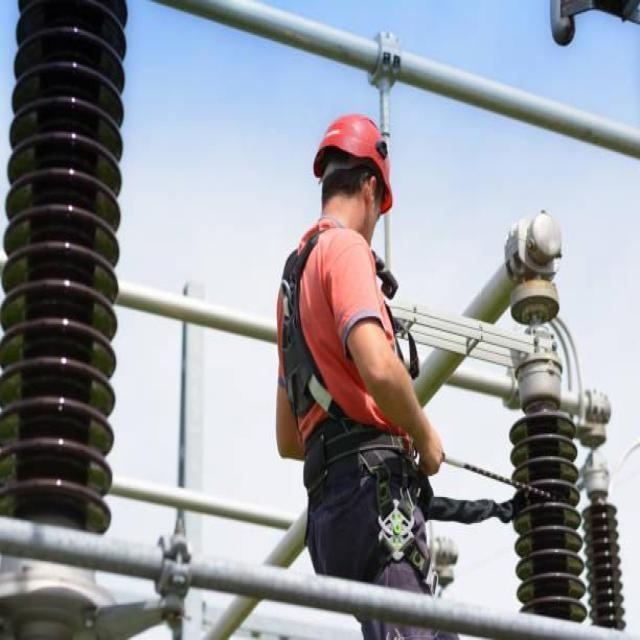Arnes_seguridad: (277, 225, 425, 600)
